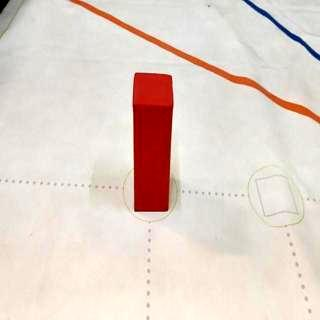redbox: (132, 72, 174, 213)
